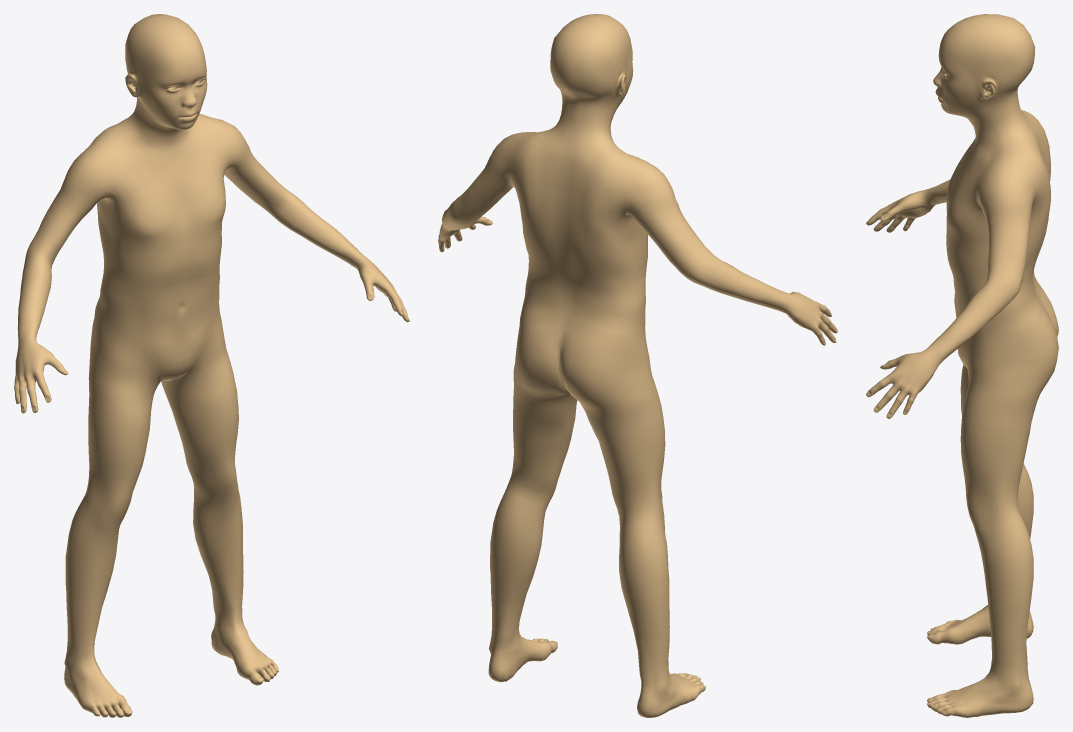
3 views of the same model, side by side, from view 1: azimuth 30°, elevation 25°; view 2: azimuth 150°, elevation 25°; view 3: azimuth 270°, elevation 25° (orthographic).
Visible parts, largest first — view 1: Human; view 2: Human; view 3: Human.
Boxes of the visible parts, <box> form: Human: <box>14,14,409,717</box>; Human: <box>438,14,837,717</box>; Human: <box>866,14,1058,717</box>.
Size of the model in its own units: 1.05 by 1.72 by 0.4576.
